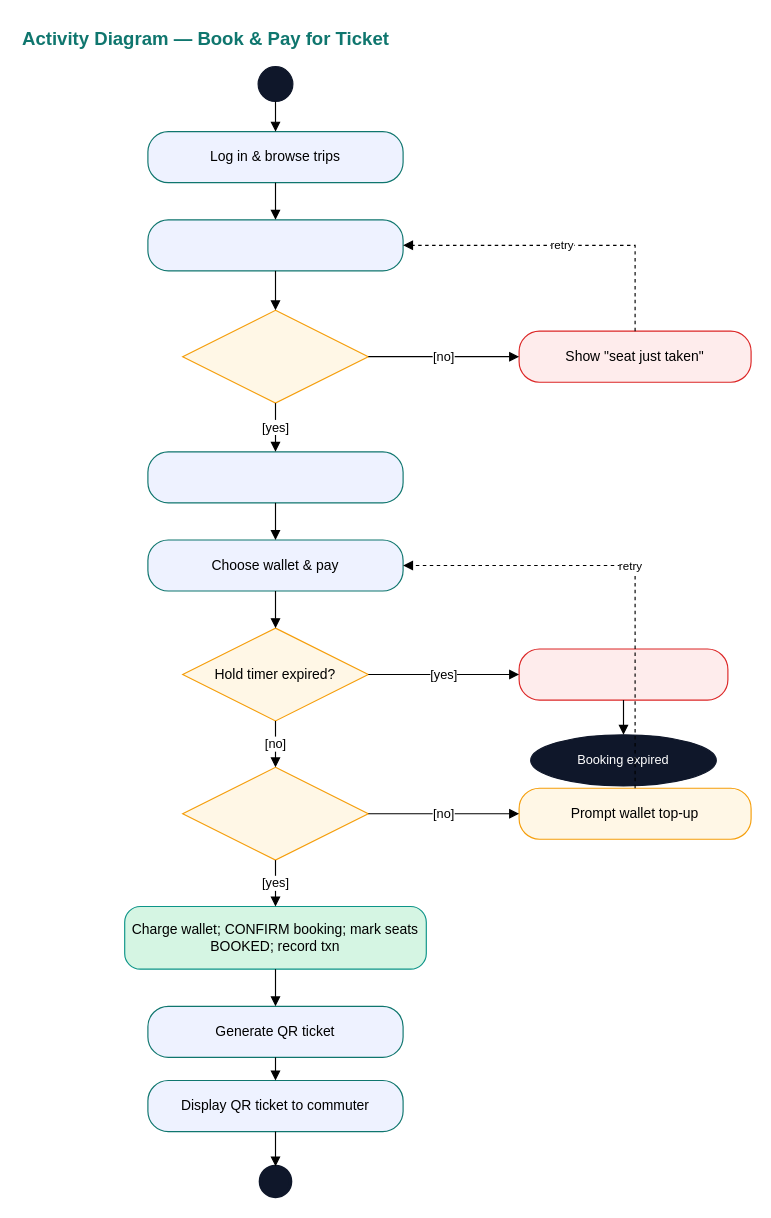
Some shapes in this 771 by 1218 pixel diagram are drawn without their labels. The centre of each missing label's shape, as x and y in pixels:
"Balance ≥ fare?" goes at point 275,813.
"Hold seats (start 5-min timer)" goes at point 275,477.
"Release held seats" goes at point 623,674.
"Seats available?" goes at point 275,356.
"Select trip & seats" goes at point 275,245.
